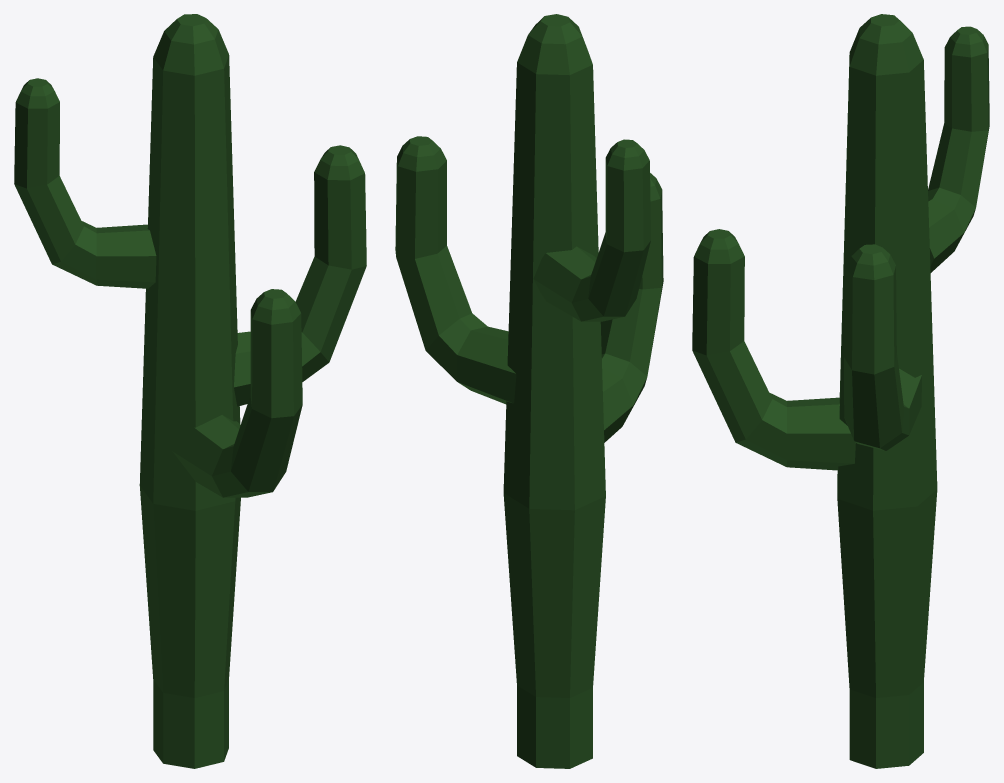
The model's file is cactus.fbx.
3 renders of one model, left to right at view 1: azimuth 30°, elevation 25°; view 2: azimuth 150°, elevation 25°; view 3: azimuth 270°, elevation 25°, orthographic.
Visible parts, largest first — view 1: cactus; view 2: cactus; view 3: cactus.
Boxes of the visible parts, x1,y1,x2,y2 form: cactus: (14, 14, 366, 768); cactus: (395, 14, 663, 768); cactus: (692, 14, 989, 768).
Bounding box in the file's own units: 173 × 407 × 150.
